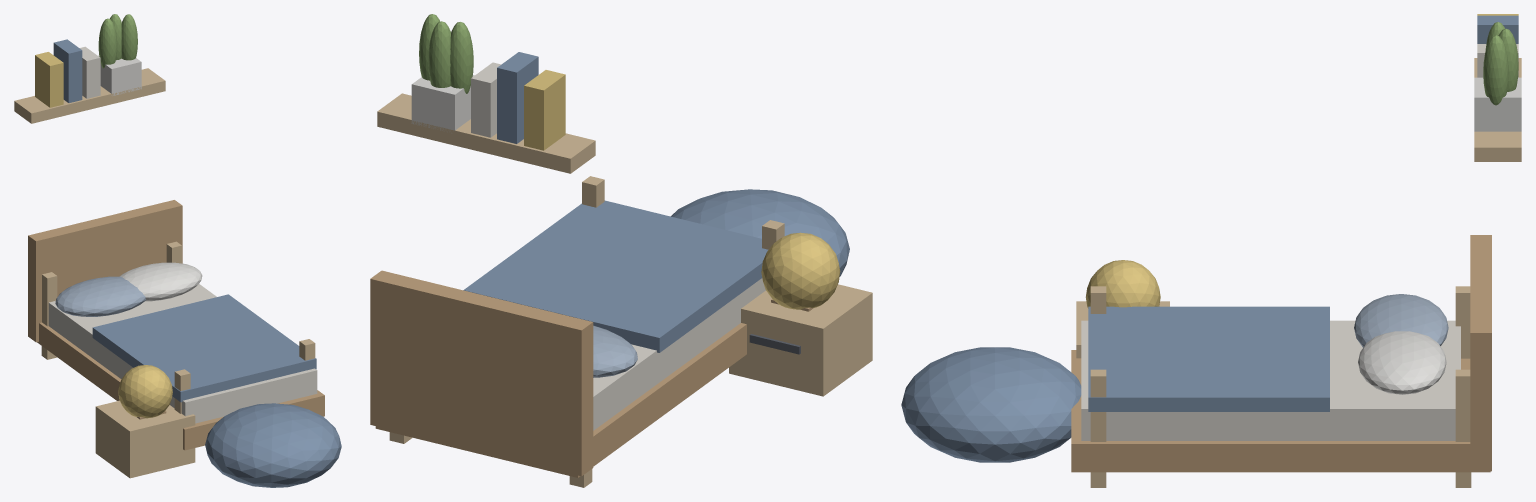
Rendered from room-custom.glb.
3 renders of one model, left to right at view 1: azimuth 30°, elevation 25°; view 2: azimuth 150°, elevation 25°; view 3: azimuth 270°, elevation 25°, orthographic. The views are drawn at different scales.
Parts seen in each view (by area): view 1: custom-blue-blanket, custom-wood-headboard, custom-blue-beanbag, custom-cream-mattress, custom-wood-nightstand, custom-wood-bed-base, custom-blue-pillow, custom-wood-wall-shelf, custom-yellow-lamp, custom-white-pillow, custom-book-0, custom-book-1 (+6 smaller); view 2: custom-wood-headboard, custom-blue-blanket, custom-wood-nightstand, custom-wood-bed-base, custom-blue-beanbag, custom-cream-mattress, custom-wood-wall-shelf, custom-yellow-lamp, custom-book-0, custom-book-1, custom-white-plant-pot, custom-book-2 (+5 smaller); view 3: custom-blue-blanket, custom-cream-mattress, custom-blue-beanbag, custom-wood-bed-base, custom-wood-headboard, custom-white-pillow, custom-blue-pillow, custom-yellow-lamp, custom-white-plant-pot, custom-wood-wall-shelf, custom-green-leaf-2, custom-wood-bed-post--1.55--2.0 (+4 smaller).
Boxes of the visible parts, left/top/right/bottom form: custom-blue-blanket: left=92, top=294, right=316, bottom=402; custom-wood-headboard: left=28, top=200, right=182, bottom=342; custom-blue-beanbag: left=205, top=403, right=341, bottom=487; custom-cream-mattress: left=48, top=284, right=317, bottom=423; custom-wood-nightstand: left=95, top=400, right=195, bottom=478; custom-wood-bed-base: left=37, top=322, right=324, bottom=450; custom-blue-pillow: left=55, top=276, right=145, bottom=316; custom-wood-wall-shelf: left=14, top=68, right=165, bottom=123; custom-yellow-lamp: left=118, top=365, right=172, bottom=418; custom-white-pillow: left=119, top=262, right=202, bottom=301; custom-book-0: left=35, top=52, right=63, bottom=107; custom-book-1: left=53, top=39, right=82, bottom=102; custom-wood-headboard: left=370, top=270, right=593, bottom=476; custom-blue-blanket: left=463, top=200, right=768, bottom=352; custom-wood-nightstand: left=729, top=284, right=872, bottom=396; custom-wood-bed-base: left=375, top=323, right=746, bottom=477; custom-blue-beanbag: left=671, top=189, right=849, bottom=276; custom-cream-mattress: left=593, top=278, right=765, bottom=430; custom-wood-wall-shelf: left=377, top=93, right=595, bottom=173; custom-yellow-lamp: left=761, top=232, right=840, bottom=309; custom-book-0: left=524, top=70, right=565, bottom=150; custom-book-1: left=497, top=52, right=538, bottom=143; custom-white-plant-pot: left=411, top=75, right=474, bottom=133; custom-book-2: left=471, top=62, right=500, bottom=137; custom-blue-blanket: left=1088, top=306, right=1329, bottom=411; custom-cream-mattress: left=1081, top=320, right=1460, bottom=440; custom-blue-beanbag: left=901, top=347, right=1081, bottom=462; custom-wood-bed-base: left=1071, top=350, right=1490, bottom=472; custom-wood-headboard: left=1470, top=235, right=1491, bottom=471; custom-white-pillow: left=1358, top=331, right=1446, bottom=394; custom-blue-pillow: left=1354, top=294, right=1448, bottom=347; custom-yellow-lamp: left=1085, top=260, right=1160, bottom=308; custom-white-plant-pot: left=1474, top=77, right=1521, bottom=131; custom-wood-wall-shelf: left=1474, top=58, right=1521, bottom=161; custom-green-leaf-2: left=1483, top=35, right=1508, bottom=105; custom-wood-bed-post--1.55--2.0: left=1455, top=369, right=1471, bottom=487.
Bounding box in the file's own units: 3.15 × 4.9 × 6.29.
